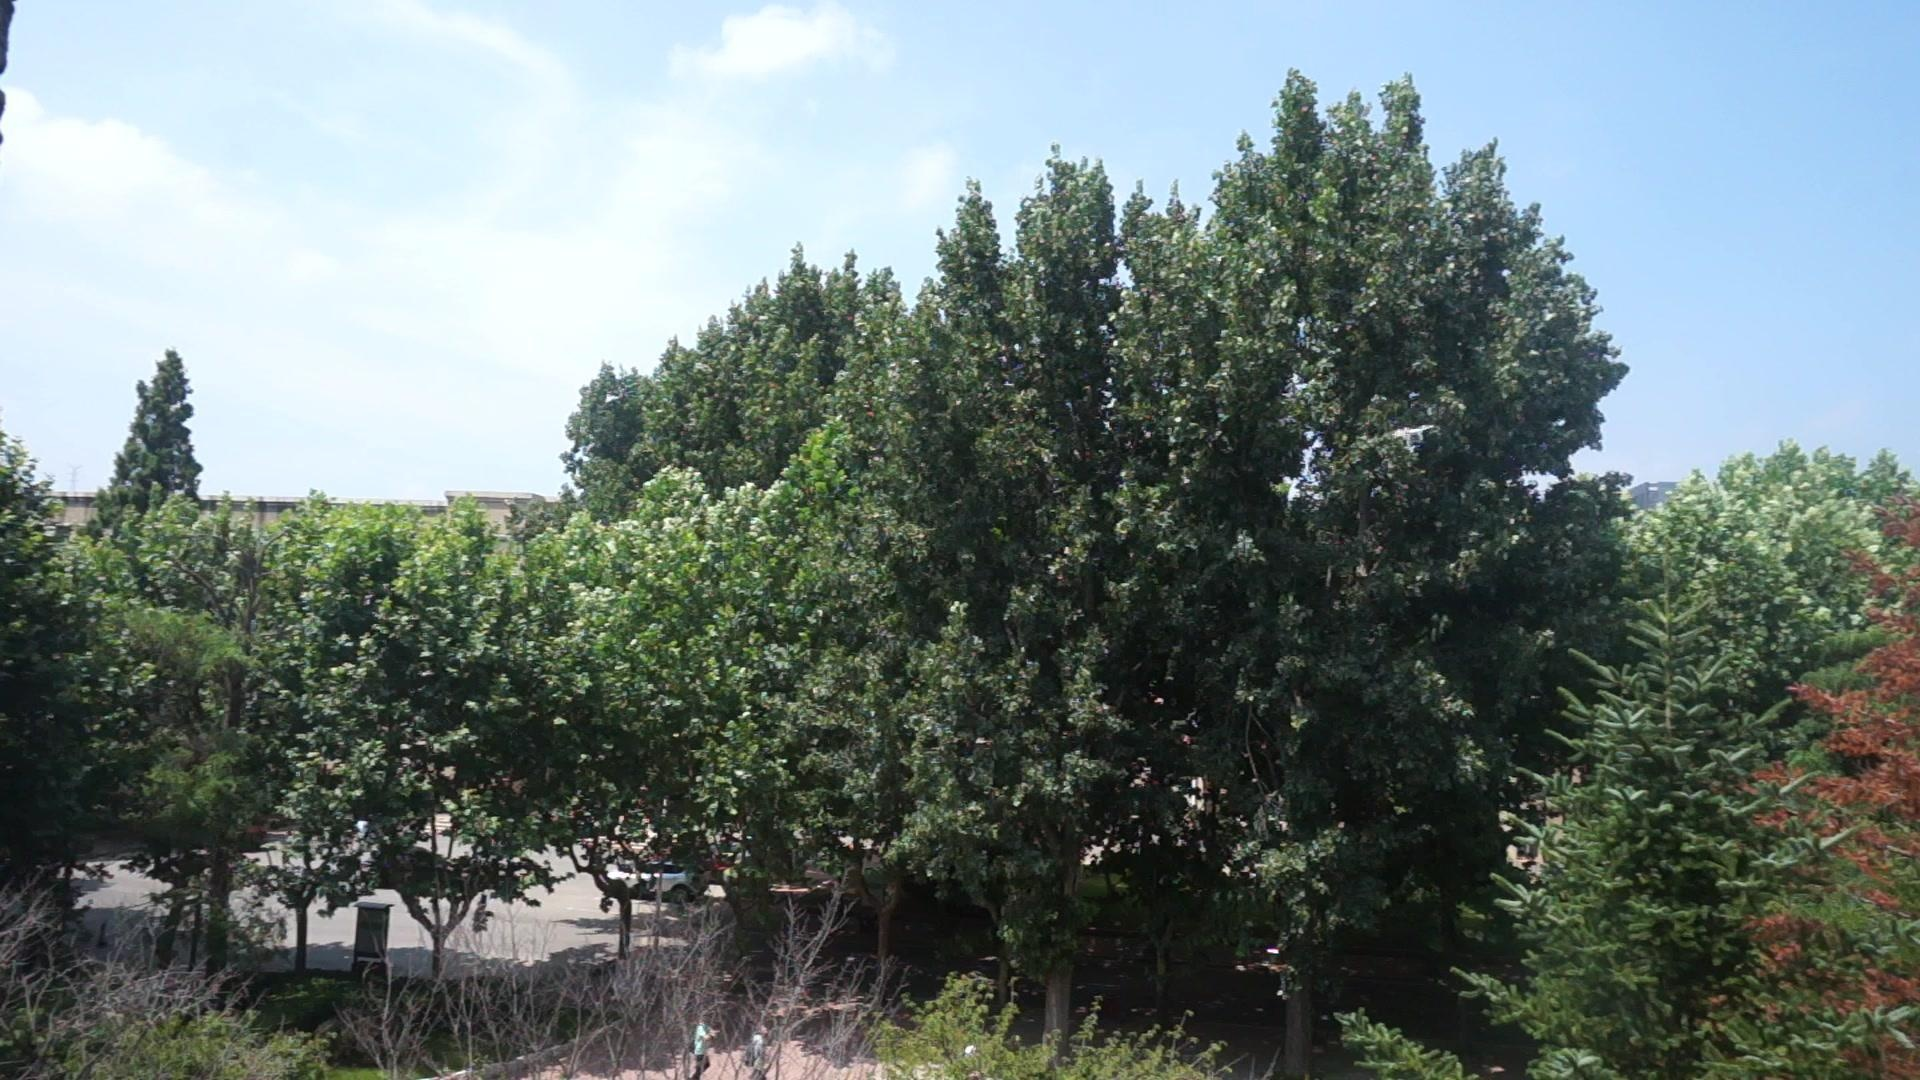UAV: (1395, 426, 1435, 450)
